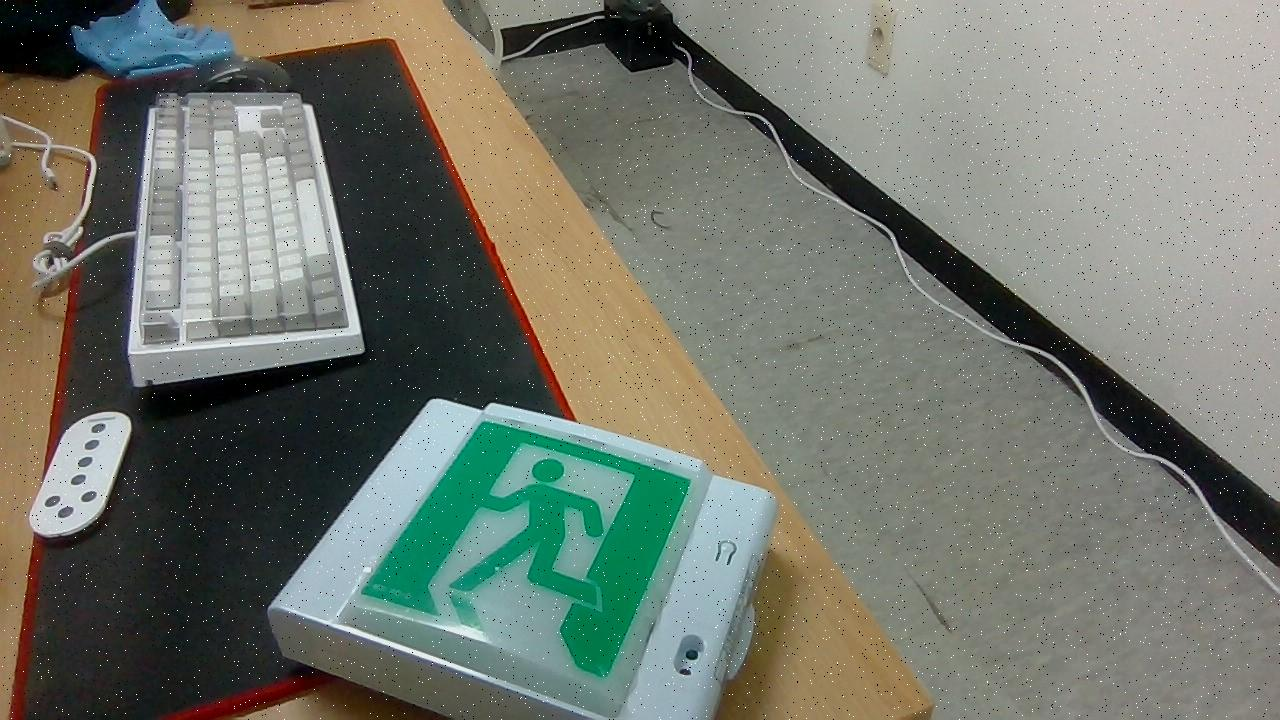emergency_exit: (267, 396, 779, 718)
